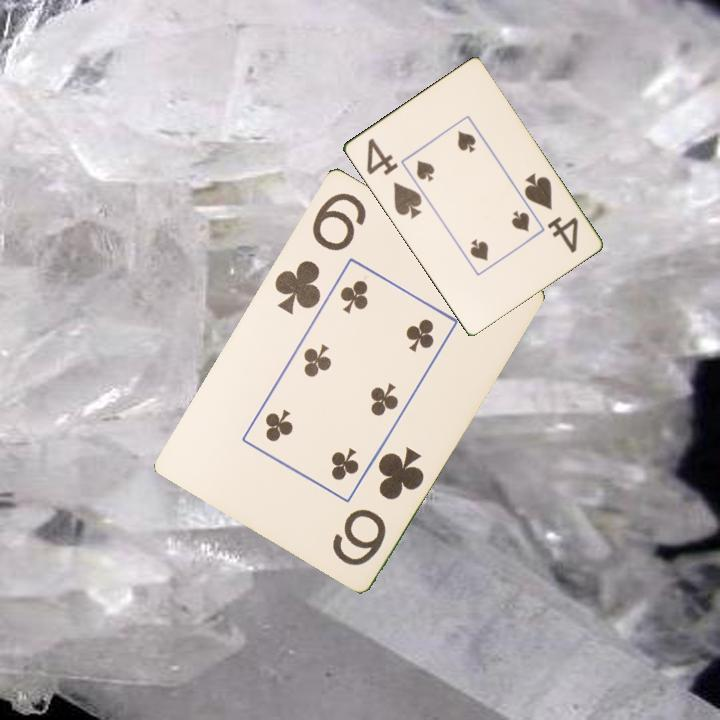4s: (362, 134, 425, 221), (520, 169, 581, 256)
6c: (270, 188, 370, 317), (328, 443, 427, 569)
